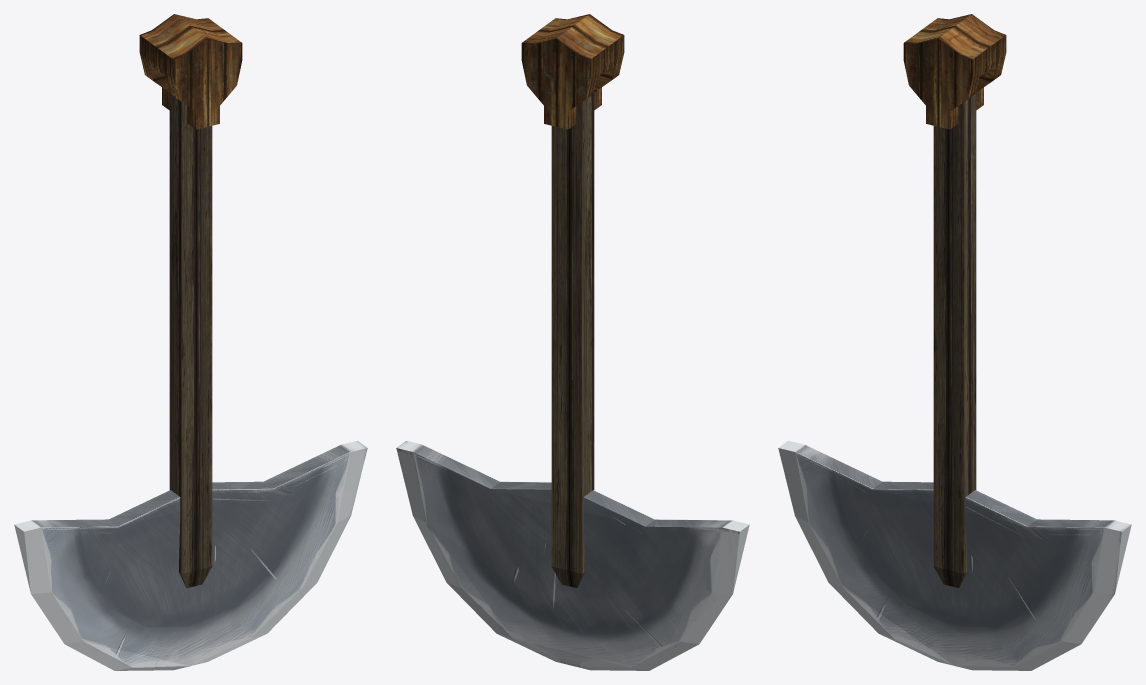
File: pendulum_axe3.fbx
3 views of the same model, side by side, from view 1: azimuth 30°, elevation 25°; view 2: azimuth 150°, elevation 25°; view 3: azimuth 330°, elevation 25° (orthographic).
Visible parts, largest first — view 1: PendulumBlade_0, PendulumBlade_1, PendulumHolder_0; view 2: PendulumBlade_0, PendulumBlade_1, PendulumHolder_0; view 3: PendulumBlade_0, PendulumBlade_1, PendulumHolder_0.
Boxes of the visible parts, x1=… form: PendulumBlade_0: x1=14, y1=440, x2=367, y2=670; PendulumBlade_1: x1=169, y1=92, x2=212, y2=587; PendulumHolder_0: x1=139, y1=14, x2=242, y2=129; PendulumBlade_0: x1=396, y1=440, x2=749, y2=670; PendulumBlade_1: x1=551, y1=92, x2=594, y2=587; PendulumHolder_0: x1=521, y1=14, x2=624, y2=129; PendulumBlade_0: x1=778, y1=440, x2=1131, y2=670; PendulumBlade_1: x1=933, y1=92, x2=976, y2=587; PendulumHolder_0: x1=903, y1=14, x2=1006, y2=129.
Size of the model in its own units: 174 by 309 by 29.5.
Materials: 3 (3 with a texture image).
